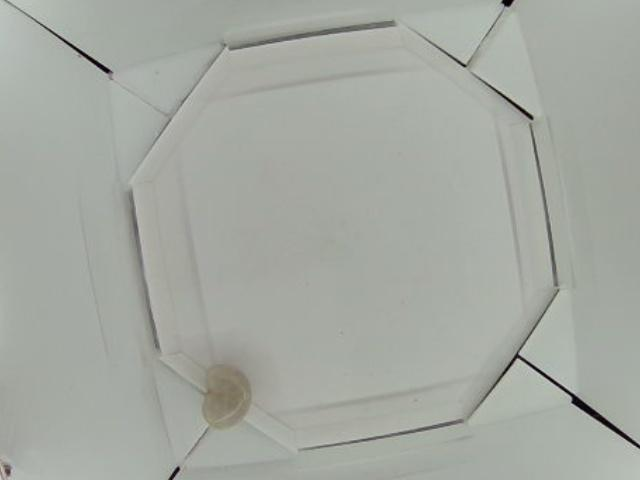Pebble: (203, 361, 249, 428)
